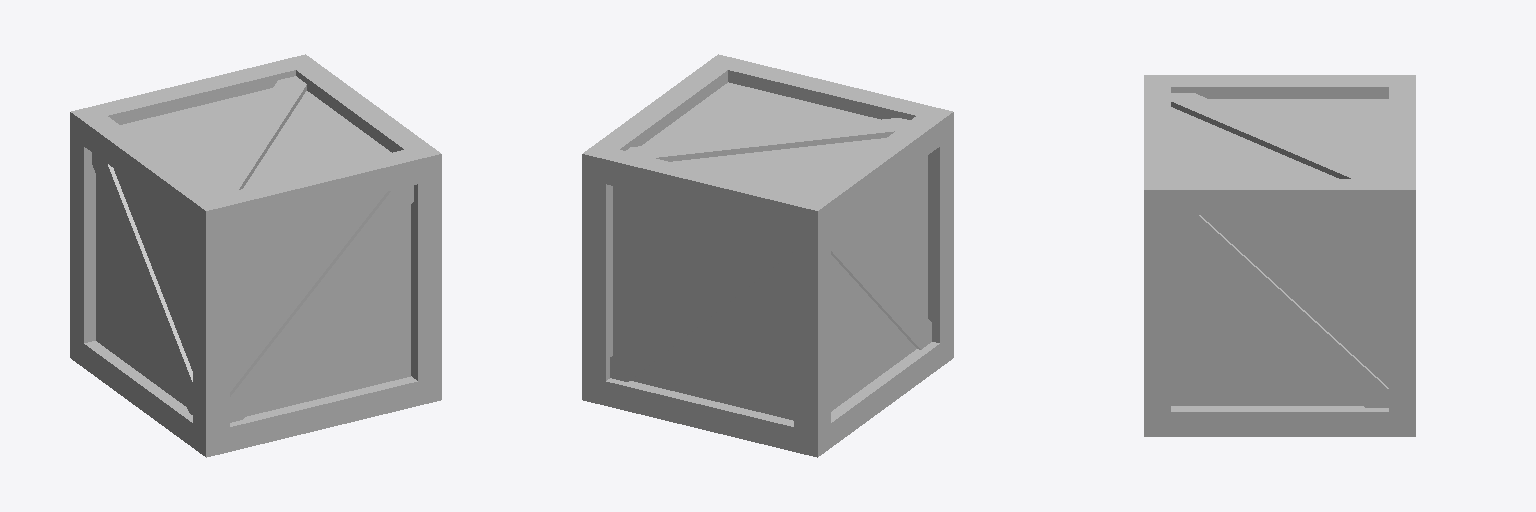
File: crate_2_001.obj
3 renders of one model, left to right at view 1: azimuth 30°, elevation 25°; view 2: azimuth 150°, elevation 25°; view 3: azimuth 270°, elevation 25°, orthographic.
Visible parts, largest first — view 1: Crate; view 2: Crate; view 3: Crate.
Part boxes in pixels (x1,y1,x2,y2): Crate: (70,54,441,457); Crate: (582,54,953,457); Crate: (1144,75,1415,436).
Bounding box in the file's own units: 1 × 1 × 1.